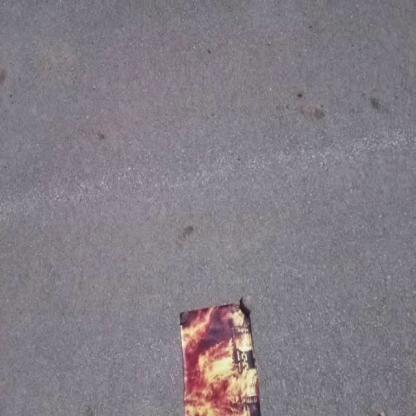fire-poster: (178, 295, 262, 415)
